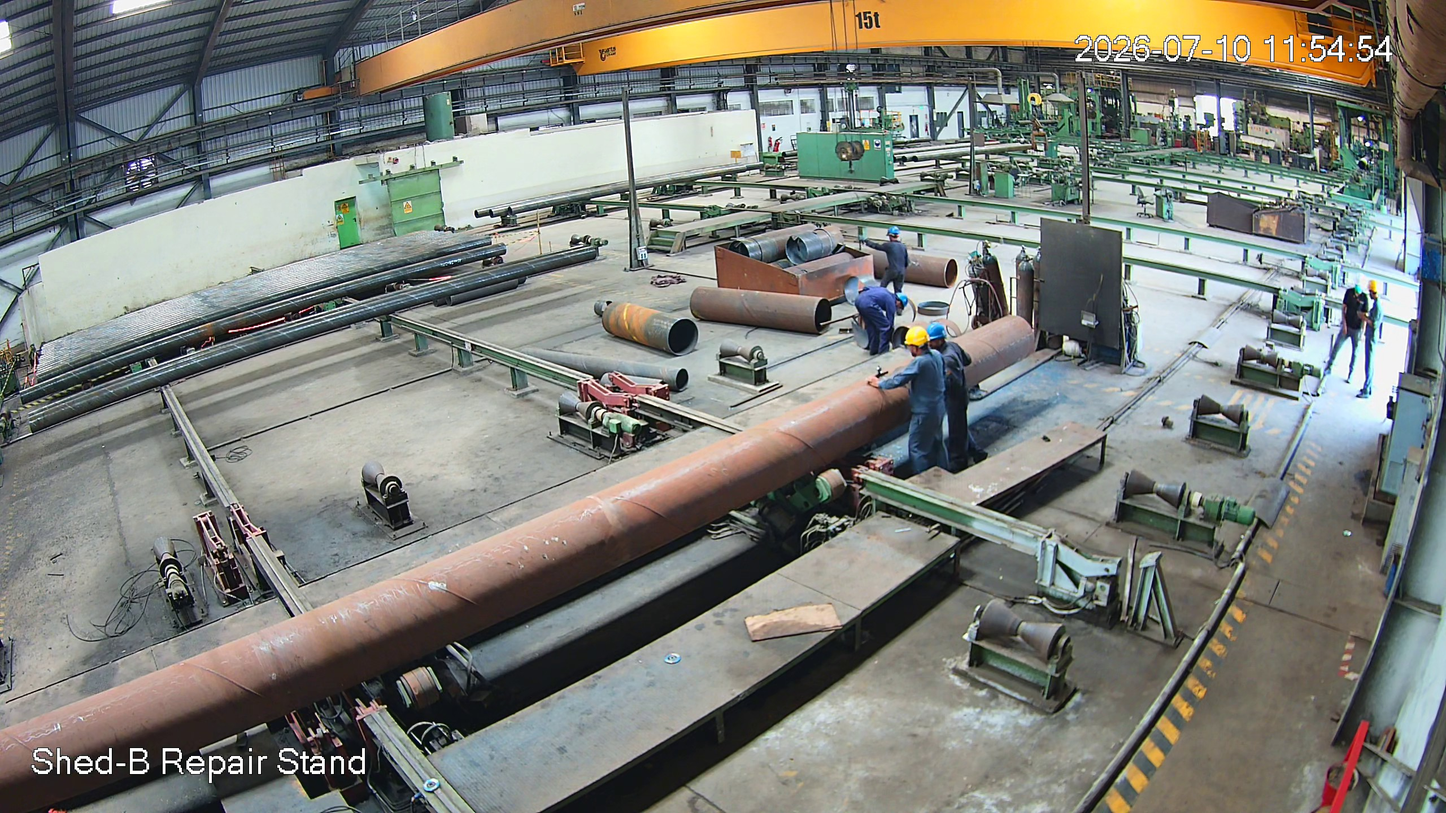Helmet: (901, 315, 926, 373), (926, 312, 952, 358), (880, 215, 902, 242), (892, 287, 910, 314), (1365, 273, 1382, 301)
Person: (930, 317, 964, 482), (893, 319, 926, 479), (852, 288, 910, 349), (1365, 274, 1388, 408), (1340, 272, 1365, 390), (875, 218, 908, 290)
